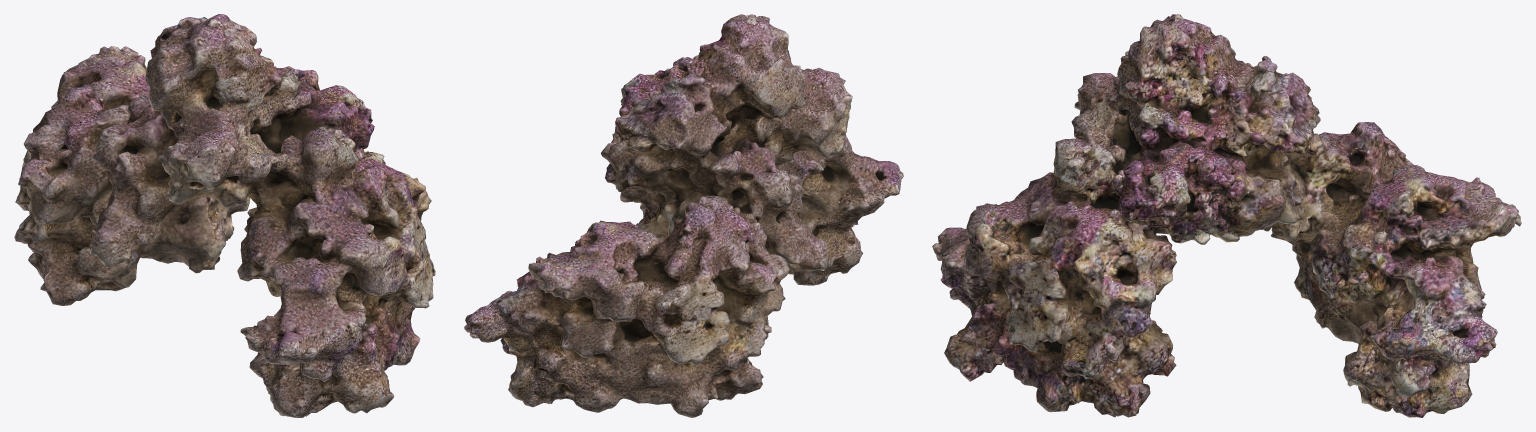
Rendered from liverock.glb.
The picture shows the model from 3 angles, left to right: view 1: azimuth 30°, elevation 25°; view 2: azimuth 150°, elevation 25°; view 3: azimuth 270°, elevation 25°; orthographic projection. The views are drawn at different scales.
Parts seen in each view (by area): view 1: tripo_node_540e4a38-c054-4d5a-ab2f-35cc42b38bf6; view 2: tripo_node_540e4a38-c054-4d5a-ab2f-35cc42b38bf6; view 3: tripo_node_540e4a38-c054-4d5a-ab2f-35cc42b38bf6.
Part boxes in pixels (<box>): tripo_node_540e4a38-c054-4d5a-ab2f-35cc42b38bf6: <box>14,14,435,417</box>; tripo_node_540e4a38-c054-4d5a-ab2f-35cc42b38bf6: <box>464,14,903,417</box>; tripo_node_540e4a38-c054-4d5a-ab2f-35cc42b38bf6: <box>932,14,1521,417</box>.
Bounding box in the file's own units: 0.5882 × 0.6589 × 1.01.
Materials: 1 (1 with a texture image).
